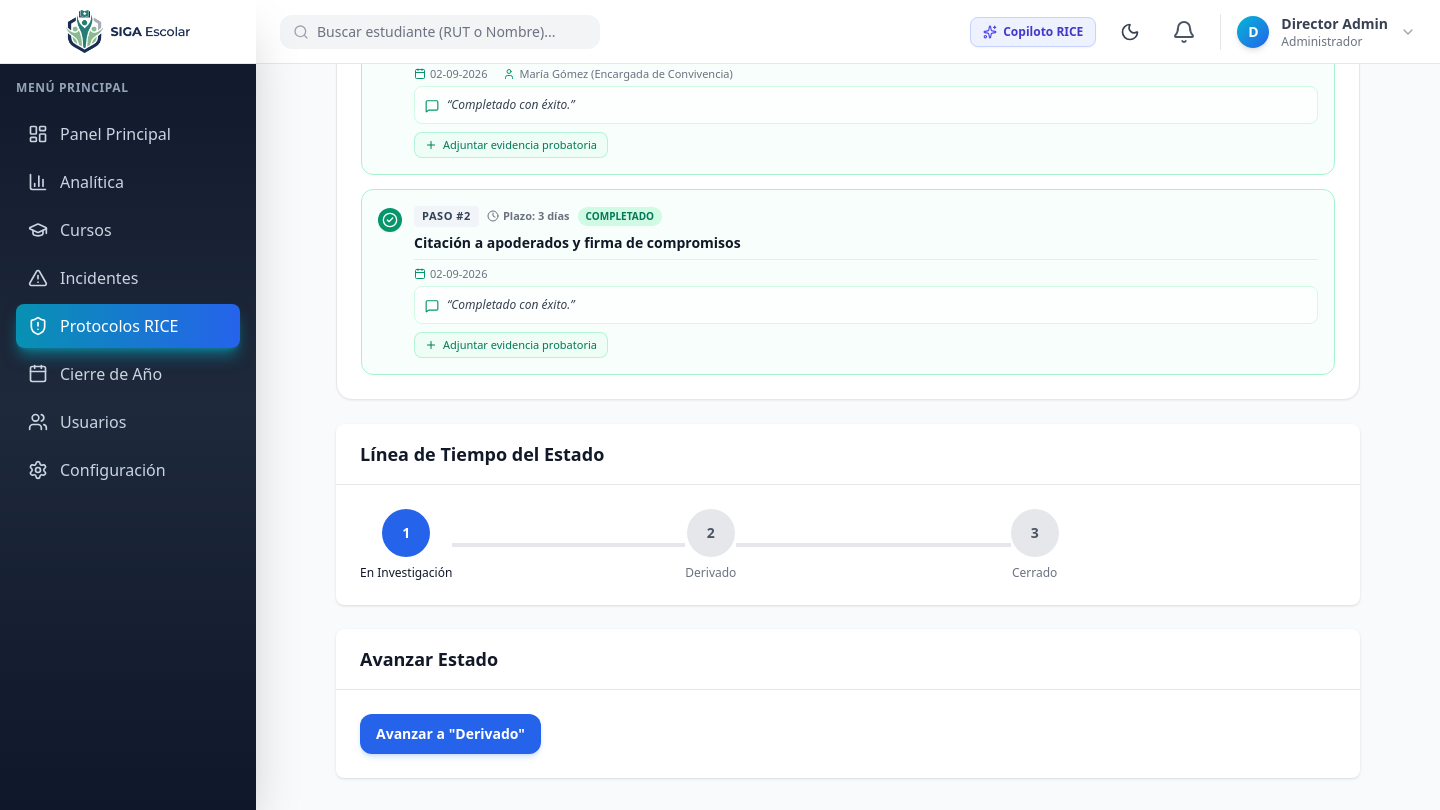
it: ProtocoloDetallePage con Checklist y Alerta de Escalada › desbloquea el botón Avanzar Estado una vez que todos los pasos están completados
This screenshot has width=1440, height=810.
(page scrolled)
Al hacer clic, abre el formulario para ingresar la observación
What coordinates should you click on to do the following:
click the button "Avanzar a \"Derivado\""
I would click on:
 (450, 734)
Its box is [360,714,541,754].
(page scrolled)
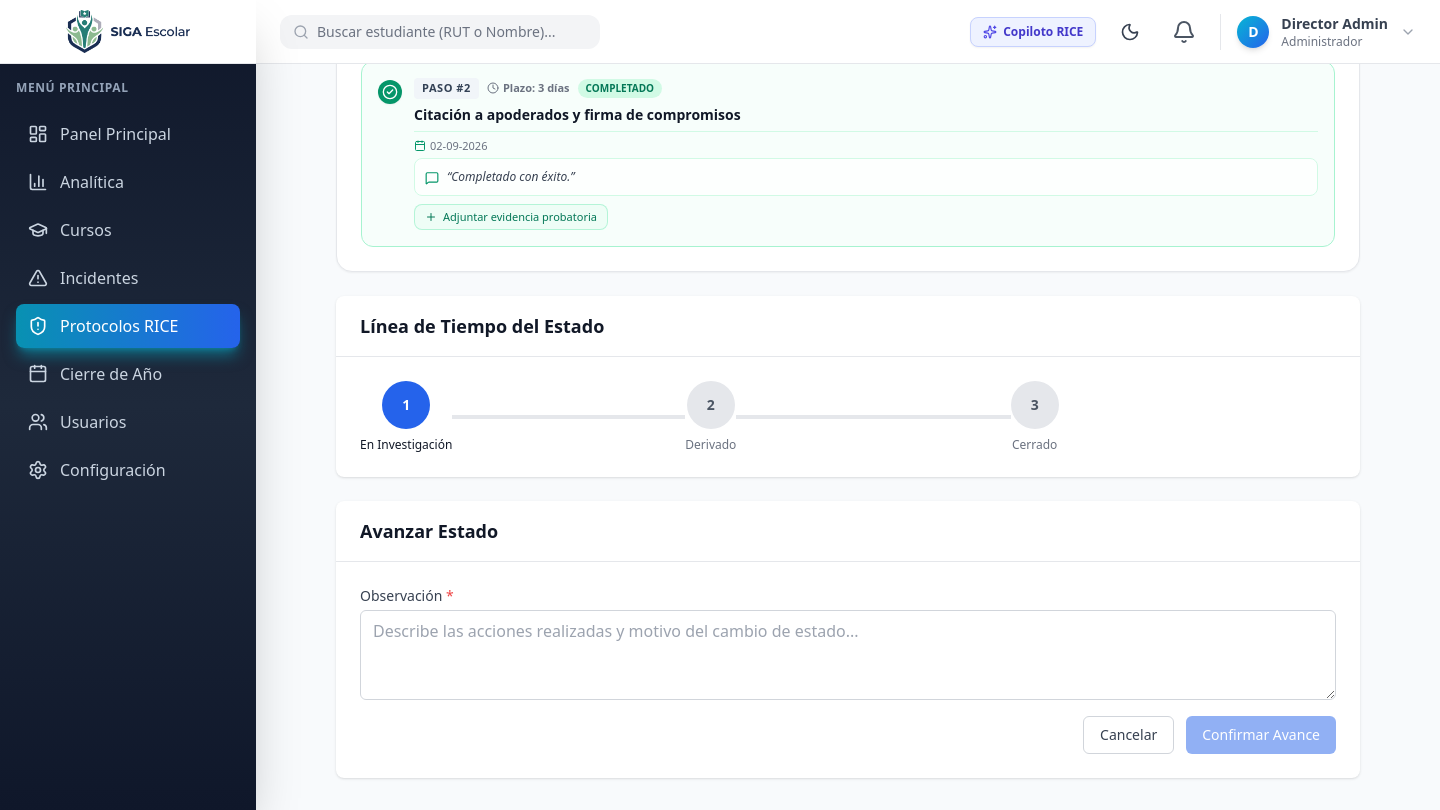
Now the text box labelled "Observación *" is shown, box [360,610,1336,700]
Now the button "Confirmar Avance" is shown, box [1186,716,1336,754]
